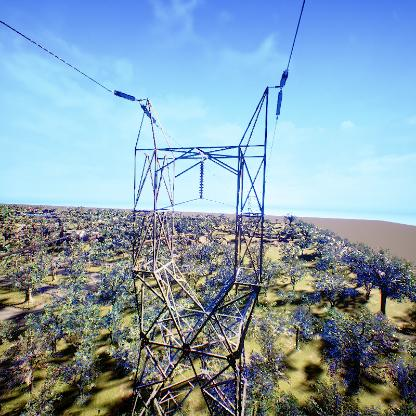tower: (112, 69, 288, 416)
